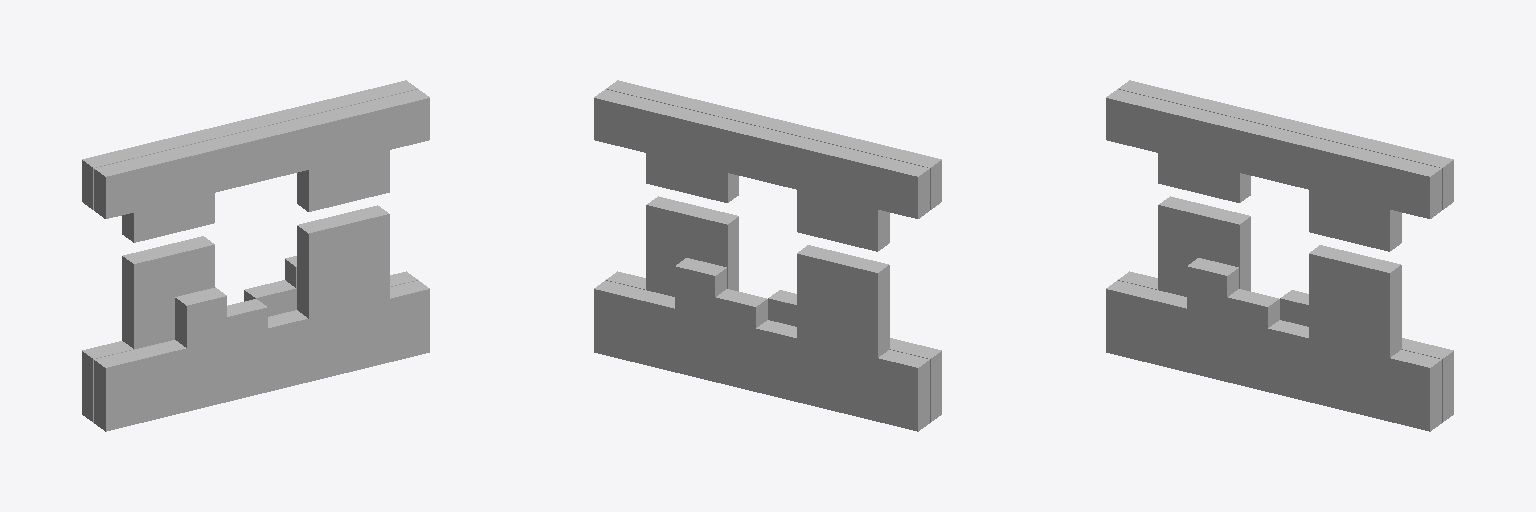
File: Colby5Edit.obj
3 views of the same model, side by side, from view 1: azimuth 30°, elevation 25°; view 2: azimuth 150°, elevation 25°; view 3: azimuth 330°, elevation 25° (orthographic).
Visible parts, largest first — view 1: Plane, Plane.001_Plane.002; view 2: Plane.001_Plane.002, Plane; view 3: Plane, Plane.001_Plane.002.
Part boxes in pixels (x1,y1,x2,y2): Plane: (94, 89, 429, 431); Plane.001_Plane.002: (82, 80, 417, 422); Plane.001_Plane.002: (594, 89, 929, 431); Plane: (606, 80, 941, 422); Plane: (1106, 89, 1441, 431); Plane.001_Plane.002: (1118, 80, 1453, 422).
Size of the model in its own units: 16 by 12 by 2.04.